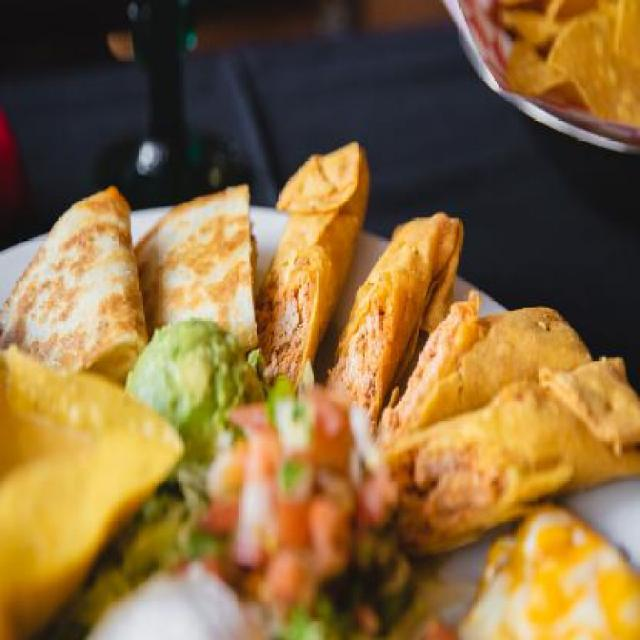chicken quesadilla: (1, 162, 258, 384)
guacamole: (126, 313, 252, 467)
spring rolls: (266, 131, 640, 540)
